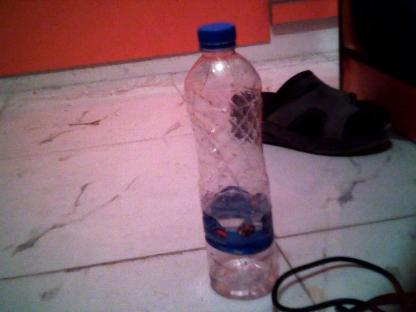Plastic Bottle: (184, 22, 280, 301)
